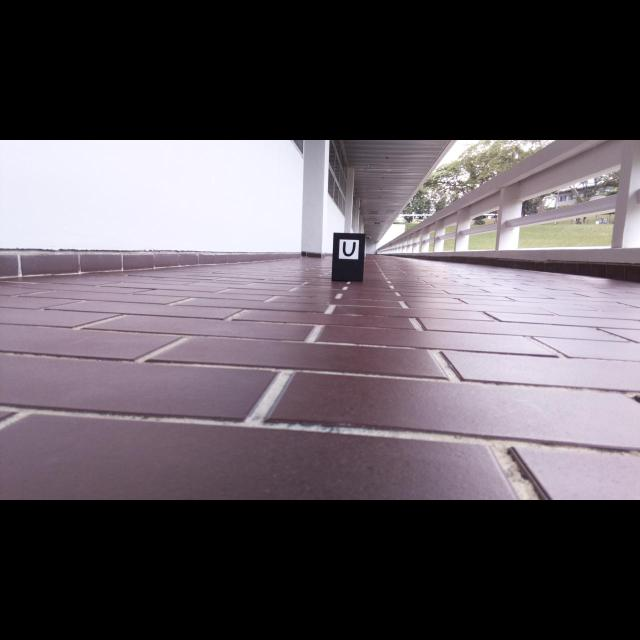U: (343, 242, 356, 256)
